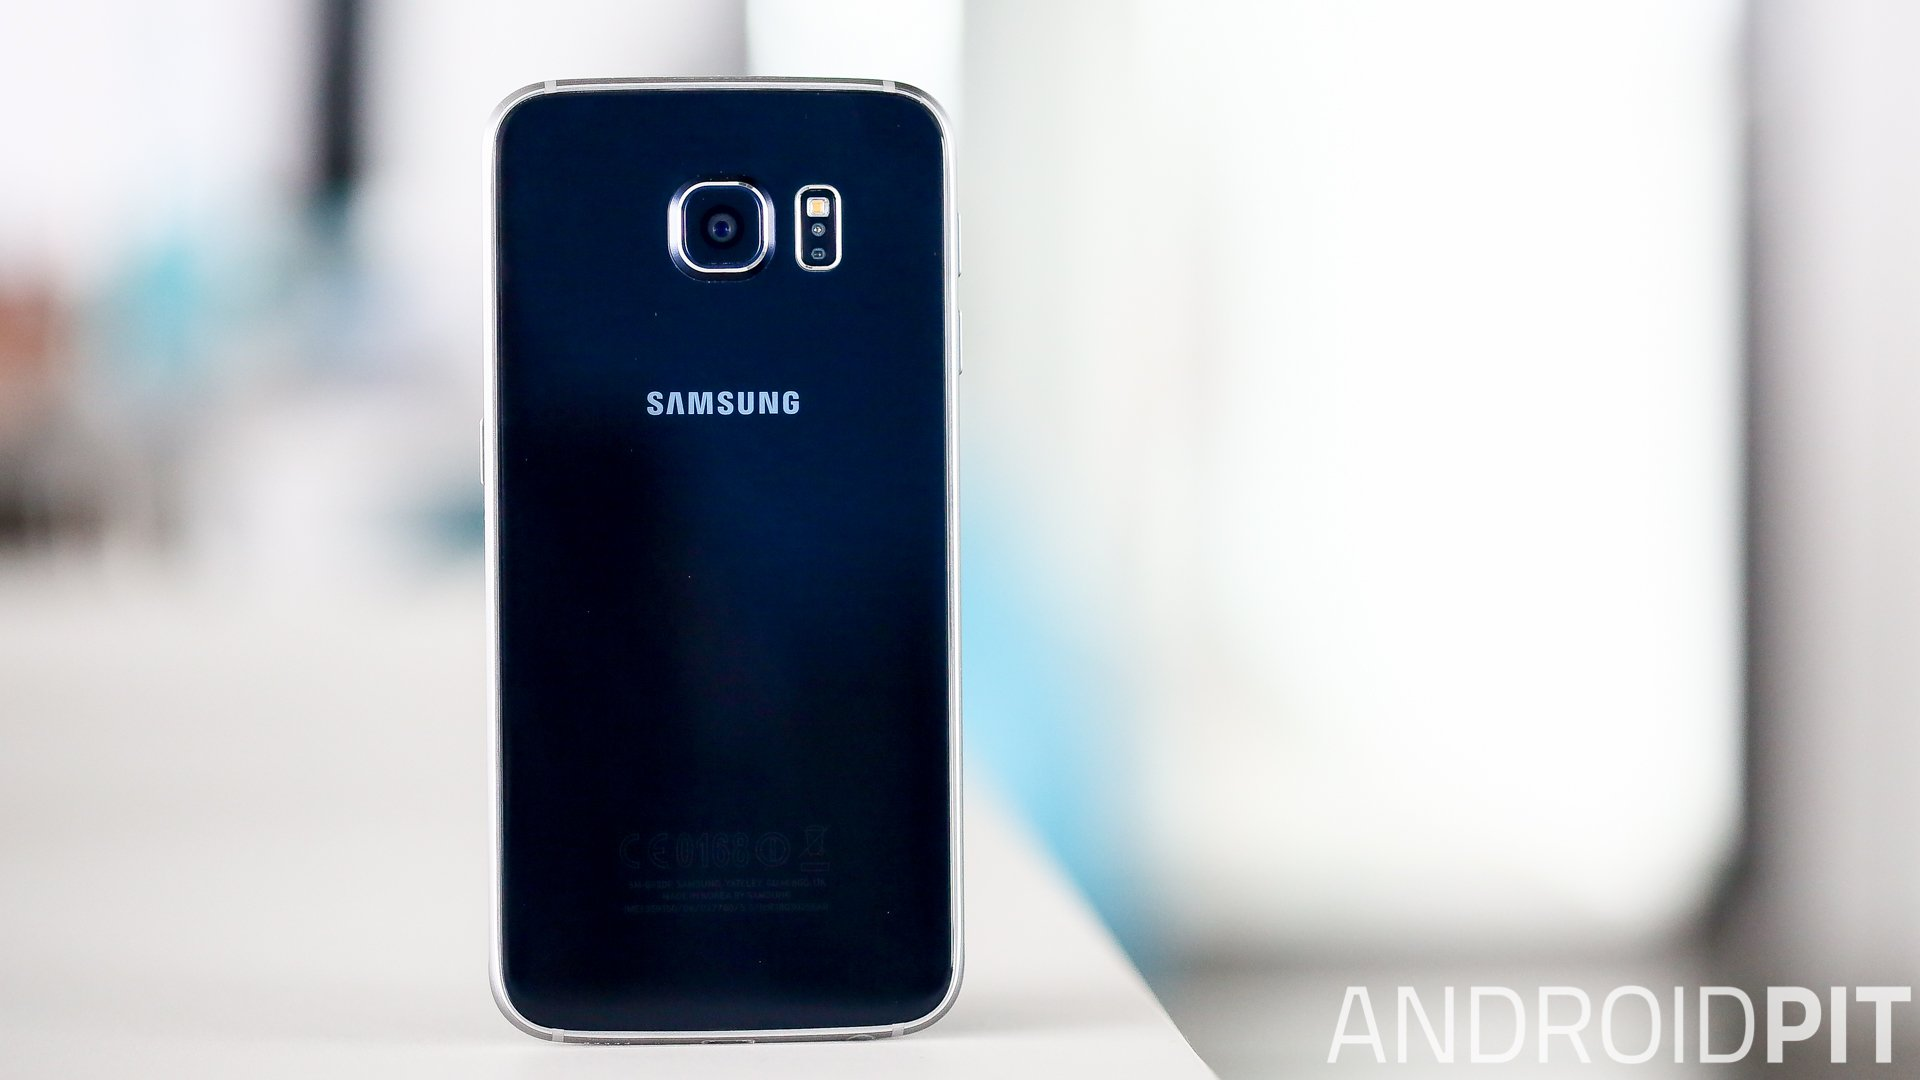smartphone: (477, 75, 964, 1046)
